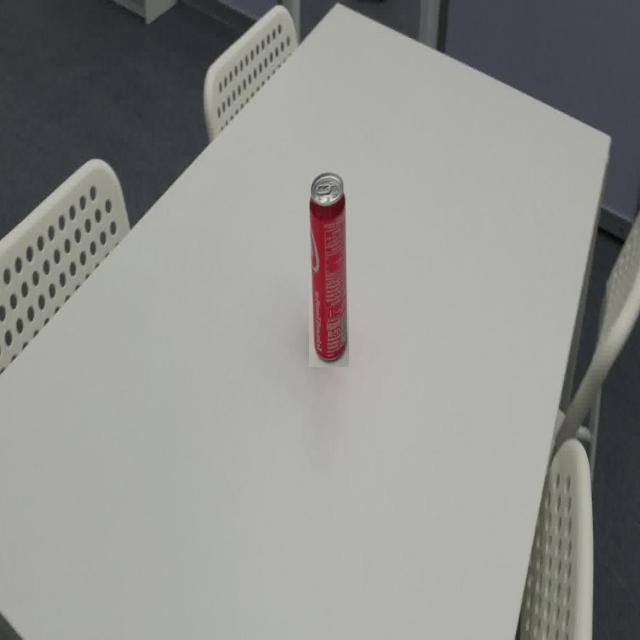coca-cola: (309, 170, 349, 367)
